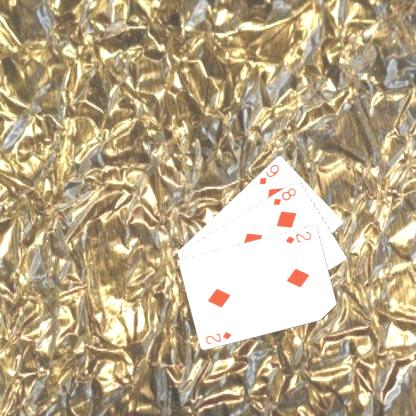2D: (203, 328, 234, 345), (283, 228, 313, 245)
8D: (270, 184, 298, 206)
9D: (256, 160, 281, 186)
